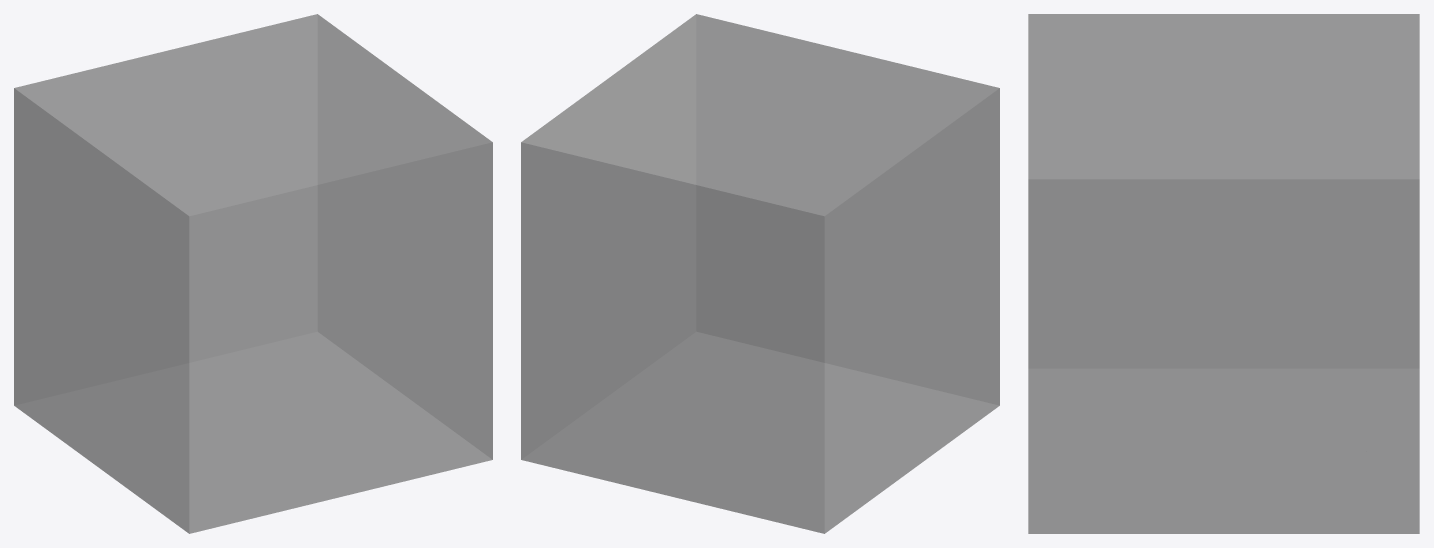
The model's file is nLkbKhMs2VM.obj.
3 renders of one model, left to right at view 1: azimuth 30°, elevation 25°; view 2: azimuth 150°, elevation 25°; view 3: azimuth 270°, elevation 25°, orthographic. The views are drawn at different scales.
Parts seen in each view (by area): view 1: transparent; view 2: transparent; view 3: transparent.
Part boxes in pixels (x1,y1,x2,y2): transparent: (14, 14, 492, 533); transparent: (521, 14, 999, 533); transparent: (1028, 14, 1419, 533).
Bounding box in the file's own units: 3 × 3 × 3.
1 material, 1 textured.
